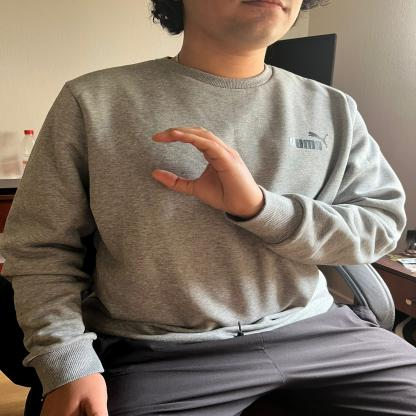C: (142, 124, 263, 218)
